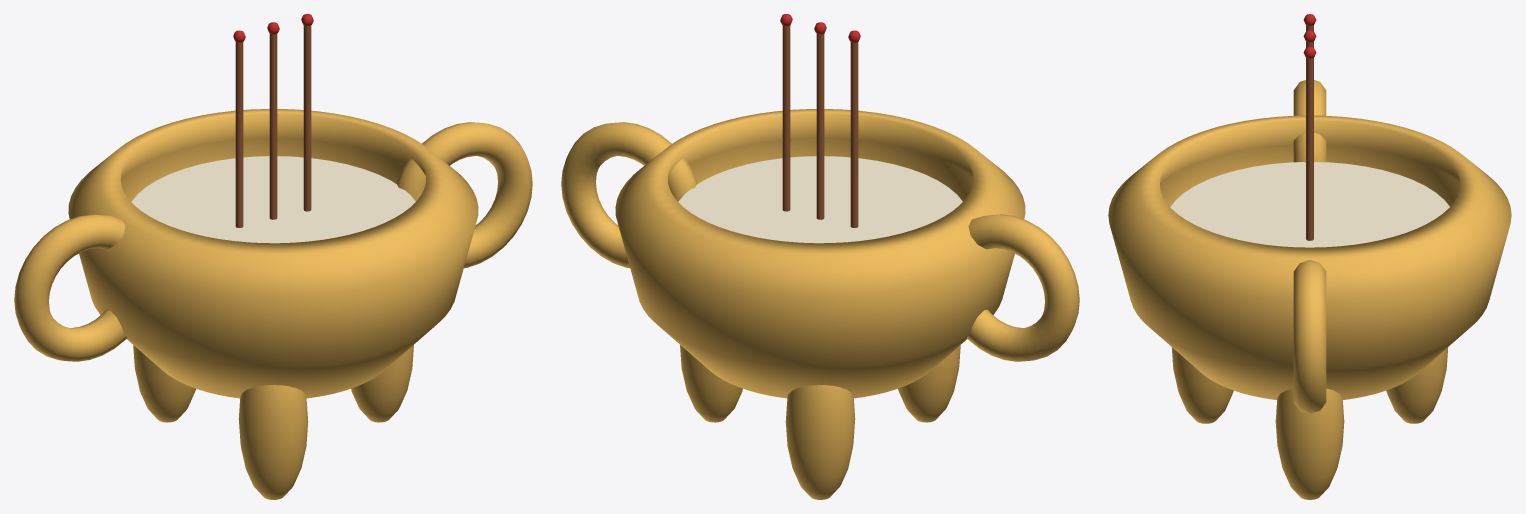
The model's file is stage-censer.glb.
3 renders of one model, left to right at view 1: azimuth 30°, elevation 25°; view 2: azimuth 150°, elevation 25°; view 3: azimuth 270°, elevation 25°, orthographic.
Visible parts, largest first — view 1: stage-censer; view 2: stage-censer; view 3: stage-censer.
Part boxes in pixels (x1,y1,x2,y2): stage-censer: [14, 14, 532, 499]; stage-censer: [561, 14, 1079, 499]; stage-censer: [1108, 14, 1511, 499].
Bounding box in the file's own units: 1.36 × 1.07 × 0.94.
